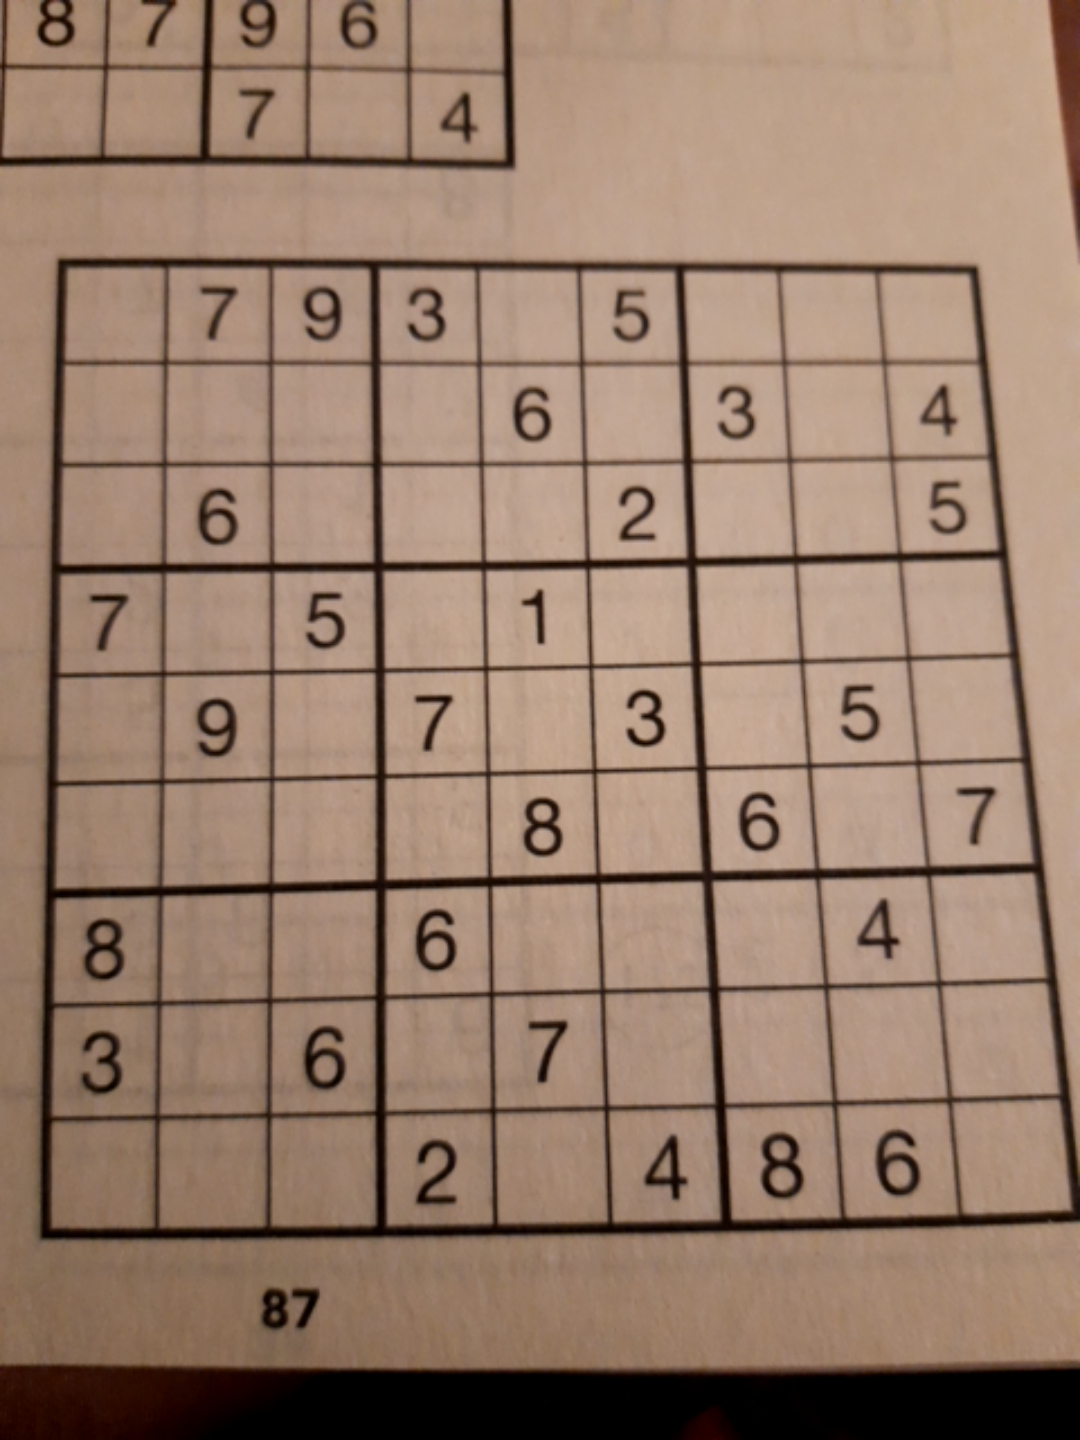sudoku: (40, 244, 1068, 1232)
